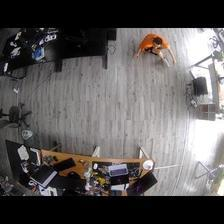fall: (133, 31, 178, 68)
